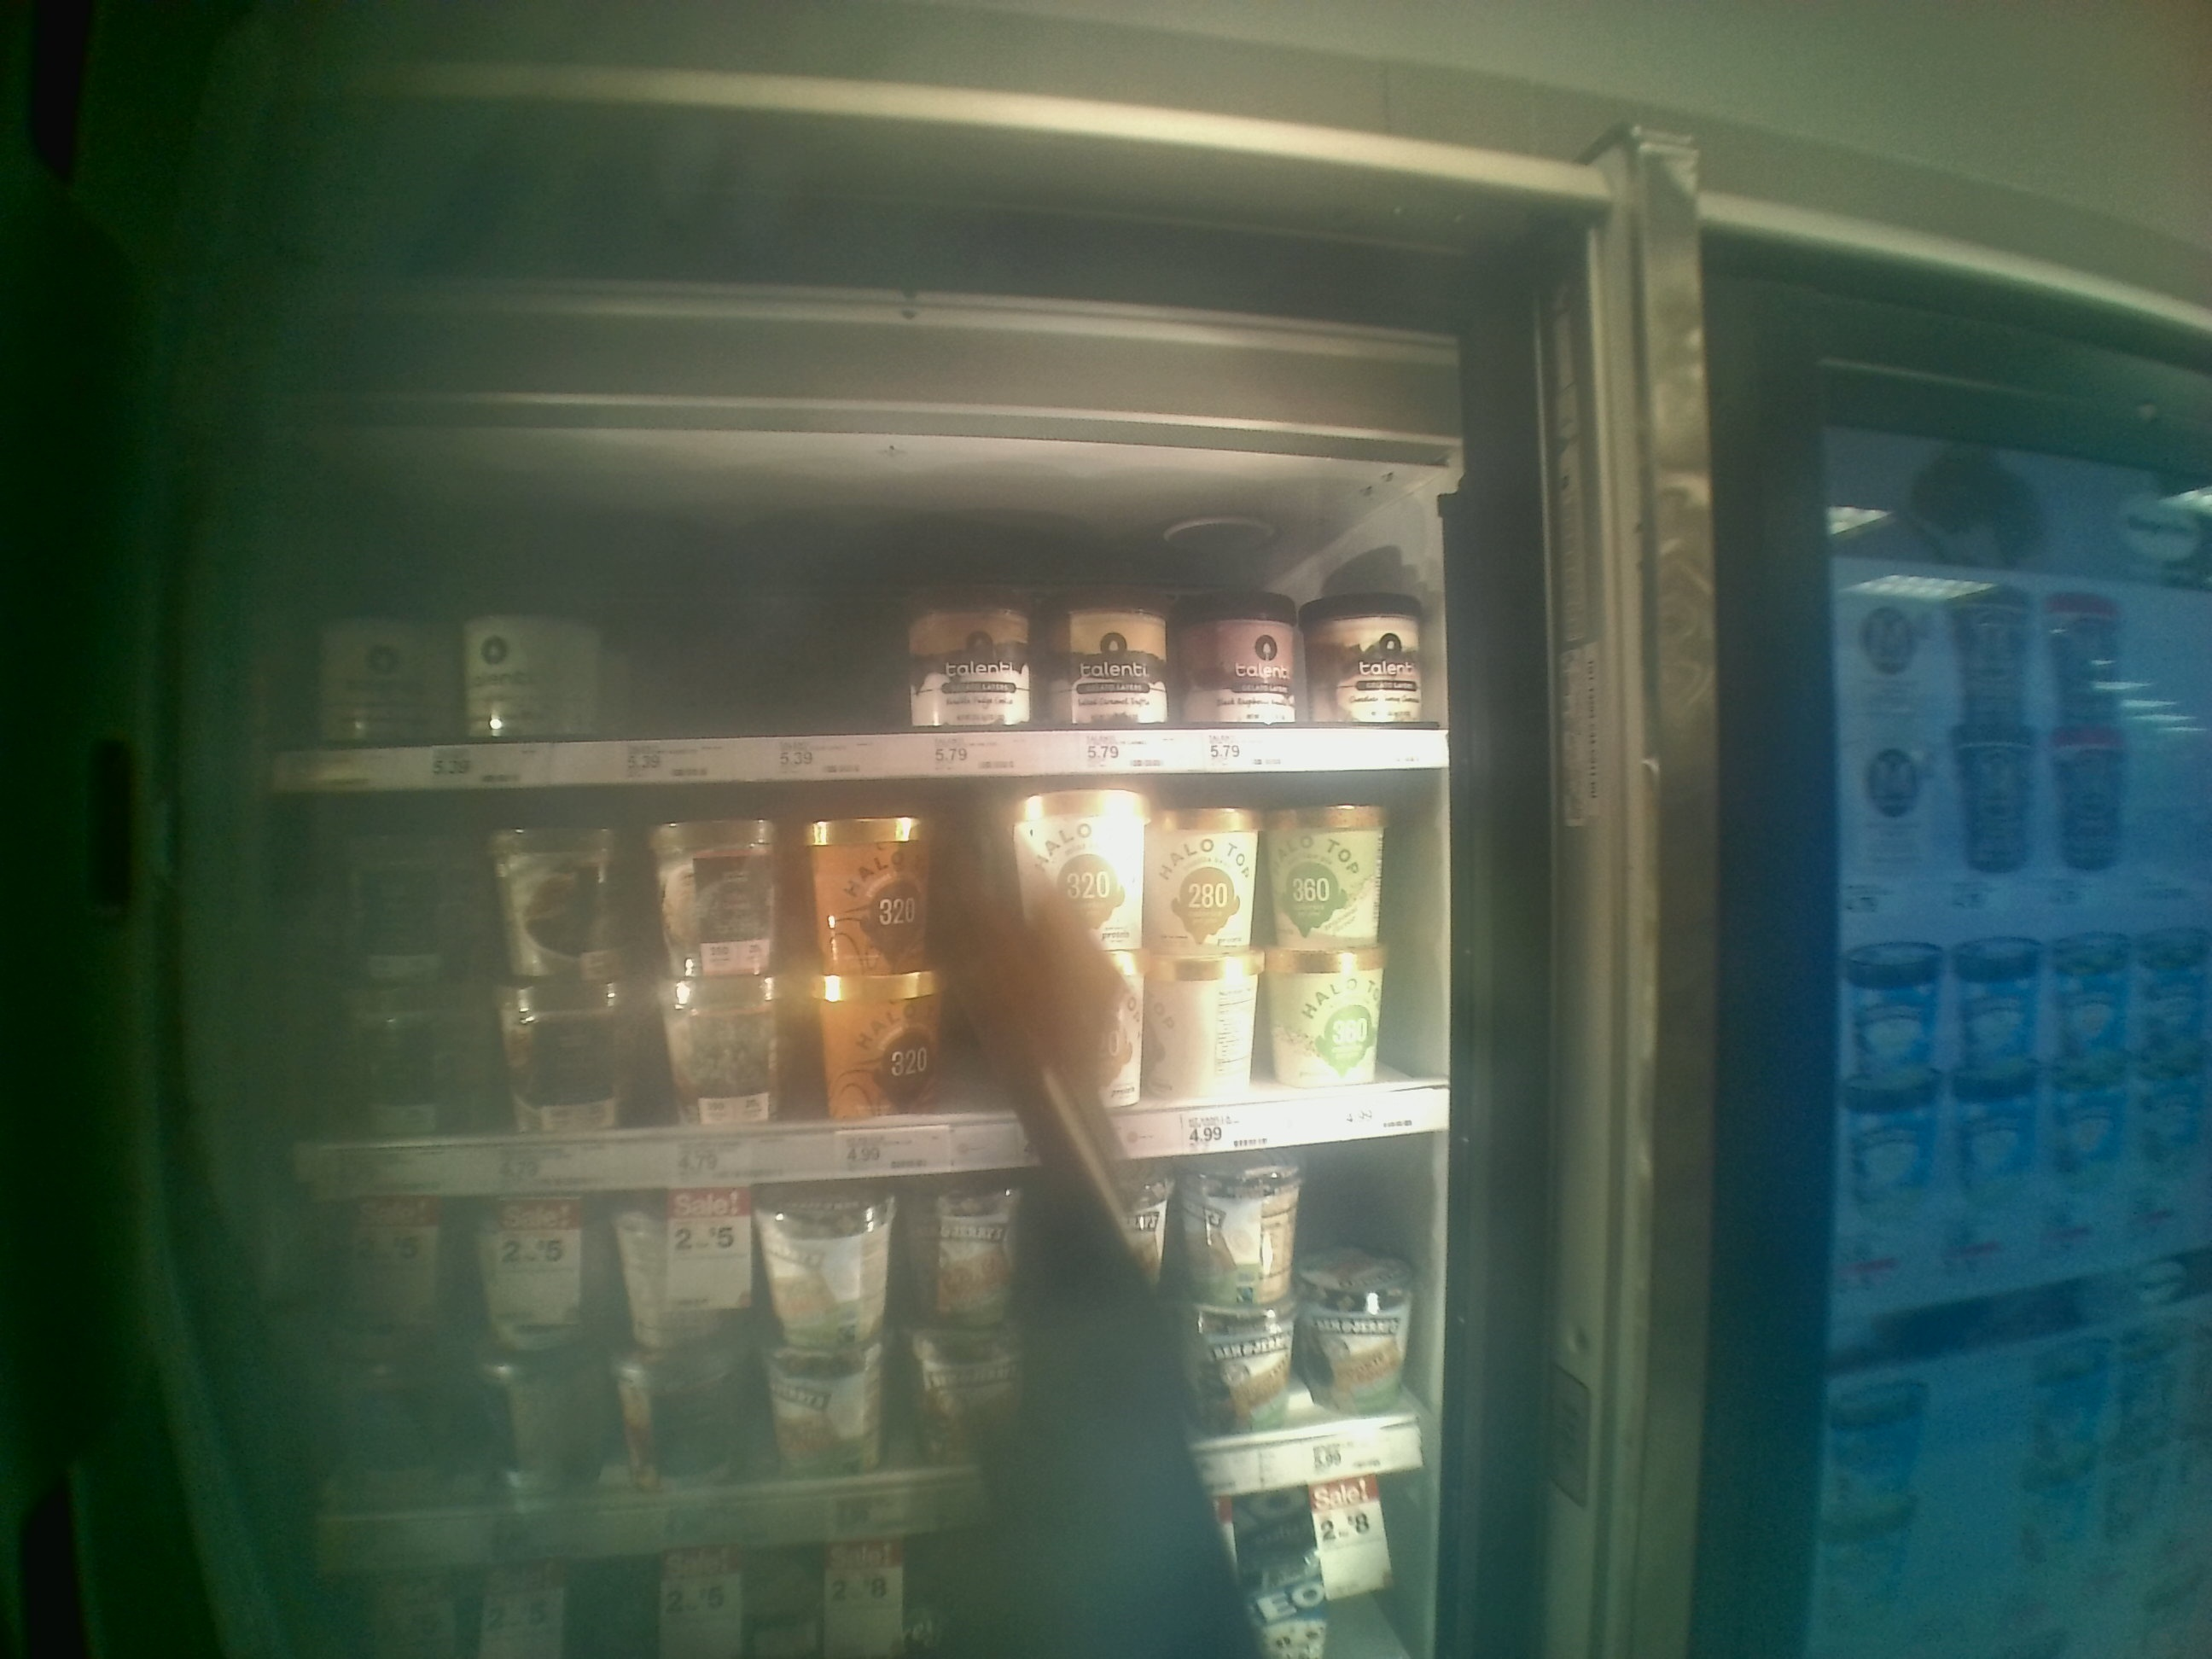shelf: (261, 425, 1460, 788)
